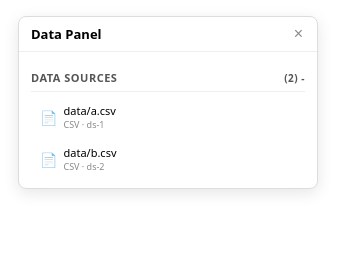
DataPanel › highlights the selected data source
The width and height of the screenshot is (337, 279).
Step 1. Click the text "data/a.csv" → point(90, 110), box [64,103,116,118]
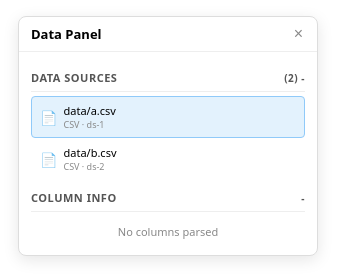
Expected: the text "Column Info" is shown, [31,190,117,205]
